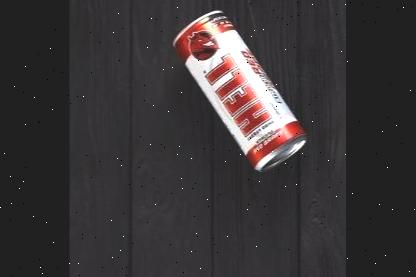Can: (171, 6, 310, 172)
